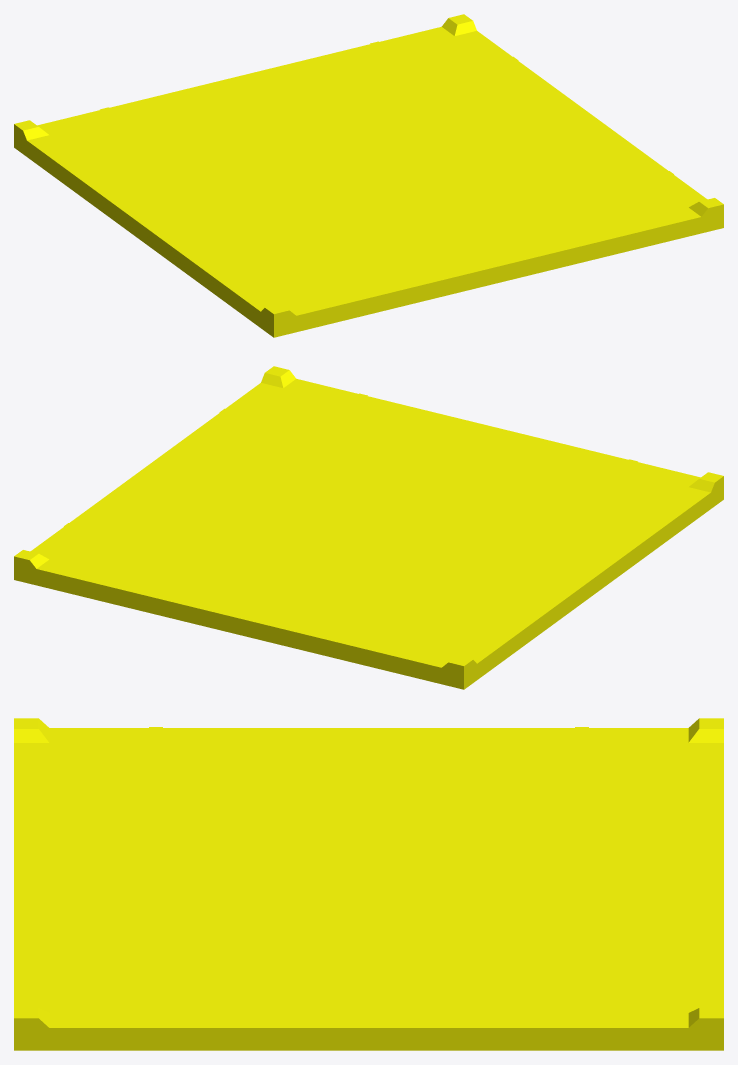
The model's file is kaykit-road-junction.glb.
3 renders of one model, top to bottom at view 1: azimuth 30°, elevation 25°; view 2: azimuth 150°, elevation 25°; view 3: azimuth 270°, elevation 25°, orthographic. The views are drawn at different scales.
Parts seen in each view (by area): view 1: road_junction; view 2: road_junction; view 3: road_junction.
Boxes of the visible parts, bbox=[...] form: road_junction: bbox=[14, 14, 723, 337]; road_junction: bbox=[14, 366, 723, 689]; road_junction: bbox=[14, 718, 723, 1050].
Size of the model in its own units: 2 by 0.1001 by 2.
